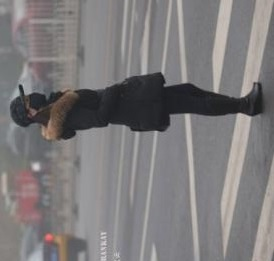person: (8, 70, 274, 141)
